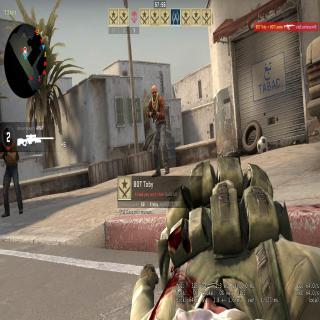T-Body: (146, 84, 172, 178), (1, 133, 21, 216)
T-Head: (151, 84, 157, 101), (4, 130, 10, 144)
